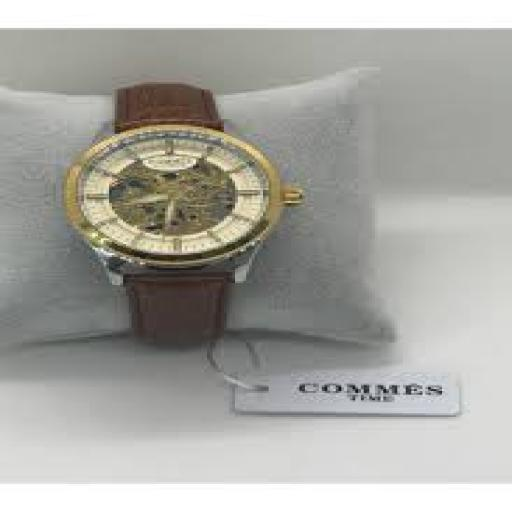KolSaati: (68, 65, 283, 342)
